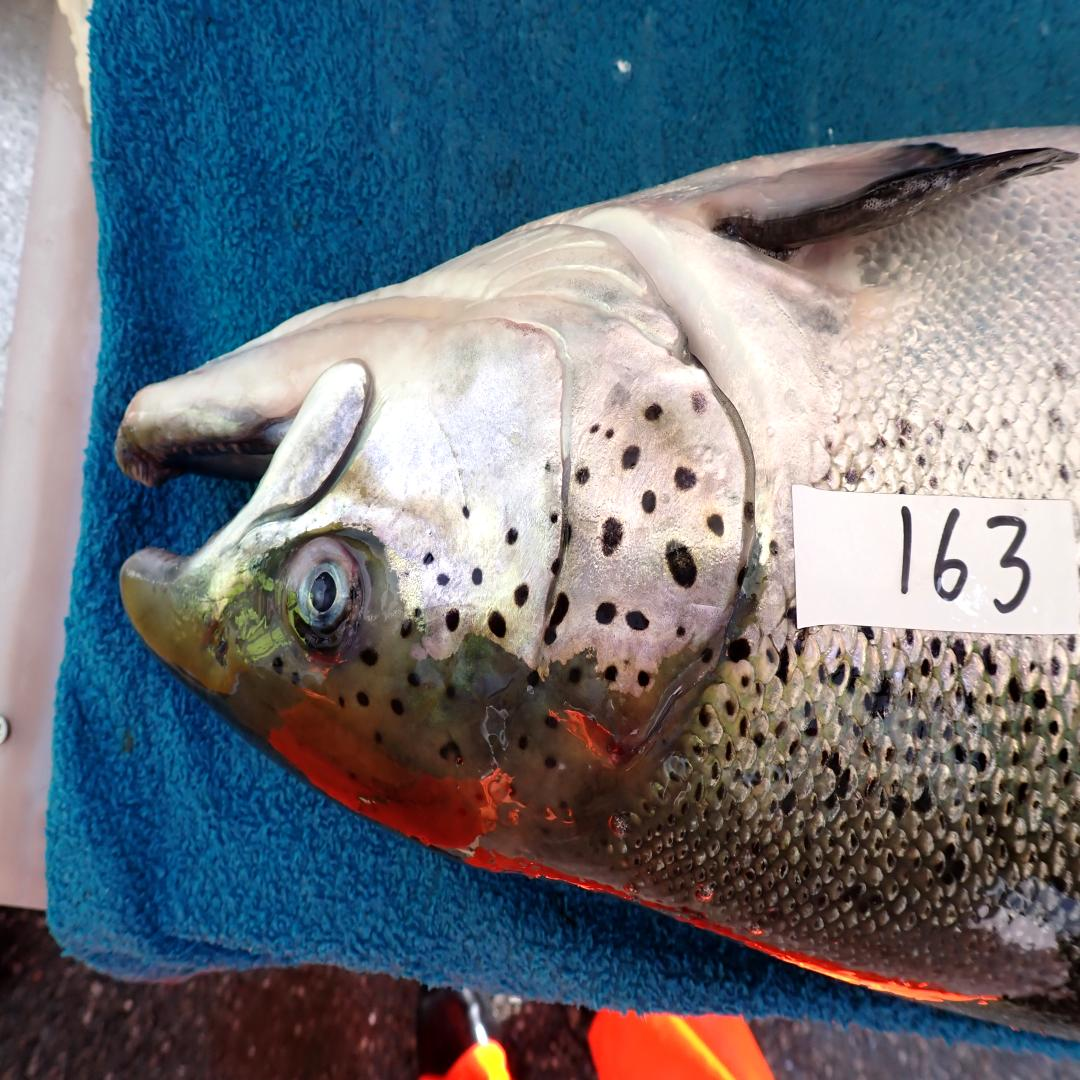roi: (371, 214, 755, 695)
